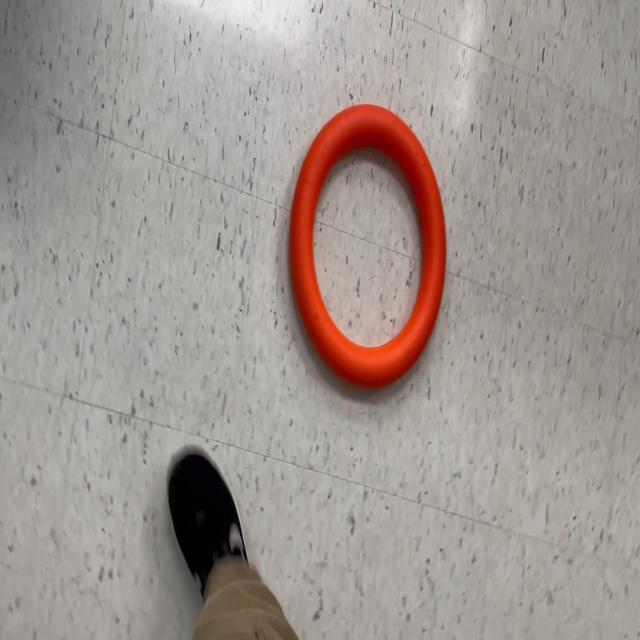note: (288, 102, 448, 390)
